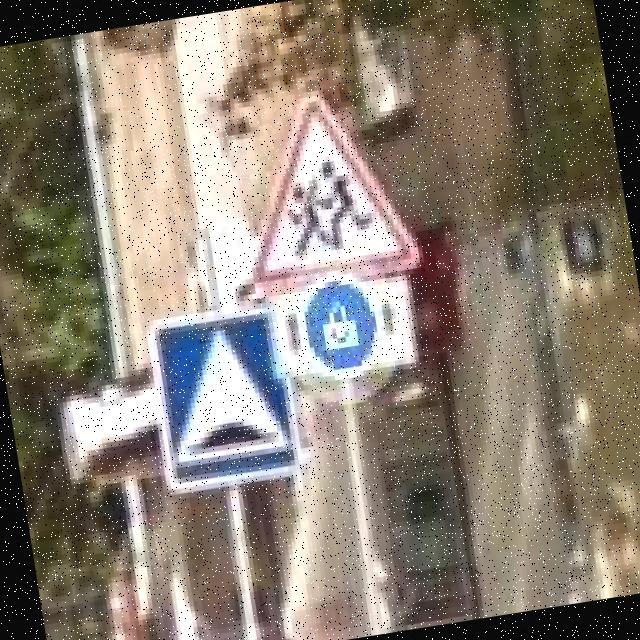Dzieci: (222, 79, 421, 294)
